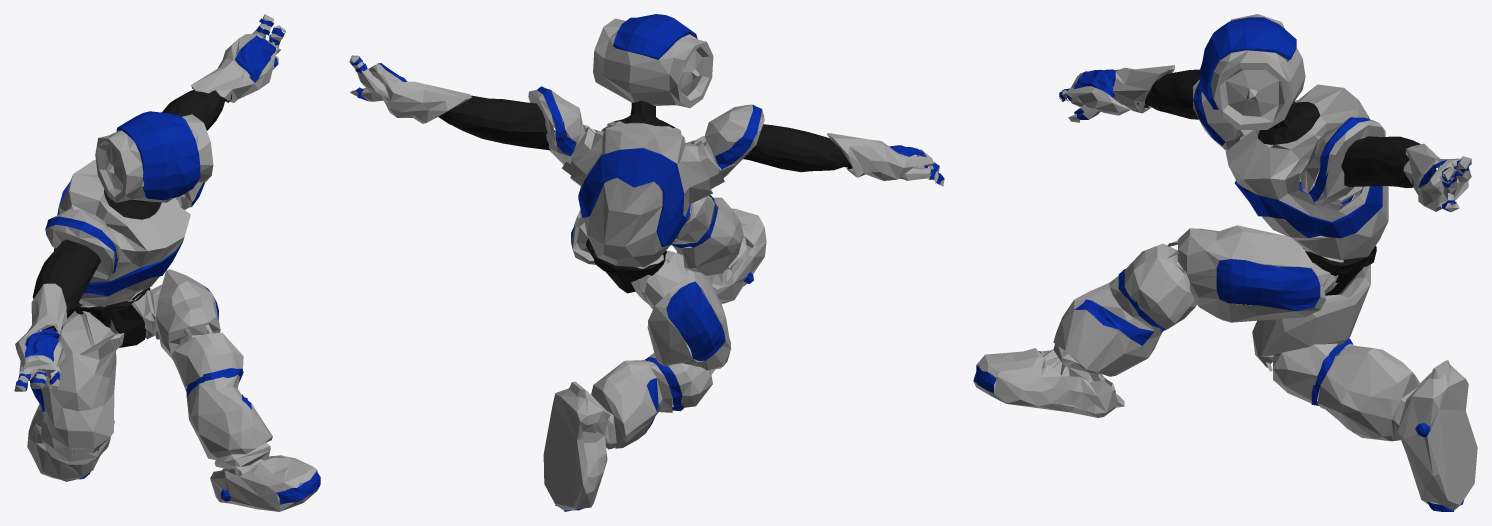
Rendered from run_jump5.obj.
3 views of the same model, side by side, from view 1: azimuth 30°, elevation 25°; view 2: azimuth 150°, elevation 25°; view 3: azimuth 270°, elevation 25° (orthographic). The views are drawn at different scales.
Visible parts, largest first — view 1: Robot2.001_Robot2Mesh.000, Robot2_Robot2Mesh.001, Robot2.002_Robot2Mesh.002; view 2: Robot2.001_Robot2Mesh.000, Robot2_Robot2Mesh.001, Robot2.002_Robot2Mesh.002; view 3: Robot2.001_Robot2Mesh.000, Robot2_Robot2Mesh.001, Robot2.002_Robot2Mesh.002.
Boxes of the visible parts, x1,y1,x2,y2 form: Robot2.001_Robot2Mesh.000: (14, 14, 320, 511); Robot2_Robot2Mesh.001: (16, 18, 320, 504); Robot2.002_Robot2Mesh.002: (32, 90, 231, 347); Robot2.001_Robot2Mesh.000: (349, 18, 944, 510); Robot2_Robot2Mesh.001: (349, 14, 944, 511); Robot2.002_Robot2Mesh.002: (438, 95, 852, 293); Robot2.001_Robot2Mesh.000: (973, 14, 1477, 510); Robot2_Robot2Mesh.001: (973, 17, 1471, 511); Robot2.002_Robot2Mesh.002: (1137, 69, 1436, 295).
Bounding box in the file's own units: 1.92 × 1.8 × 1.7.
